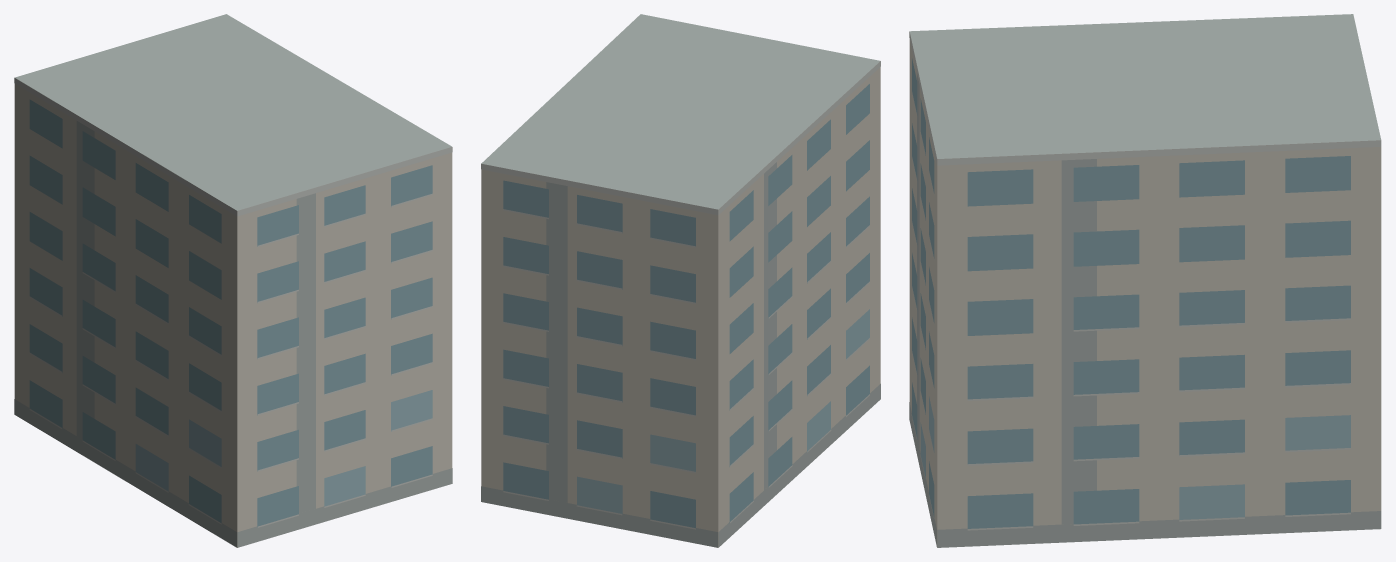
The model's file is survey-upis-32884530.glb.
3 renders of one model, left to right at view 1: azimuth 30°, elevation 25°; view 2: azimuth 150°, elevation 25°; view 3: azimuth 270°, elevation 25°, orthographic. The views are drawn at different scales.
Visible parts, largest first — view 1: survey-upis-32884530.tmp; view 2: survey-upis-32884530.tmp; view 3: survey-upis-32884530.tmp.
Boxes of the visible parts, box(x1,y1,x2,y2) form: survey-upis-32884530.tmp: box(14, 14, 452, 547); survey-upis-32884530.tmp: box(481, 14, 880, 547); survey-upis-32884530.tmp: box(909, 14, 1381, 547).
Bounding box in the file's own units: 11.53 × 14.4 × 15.85.
